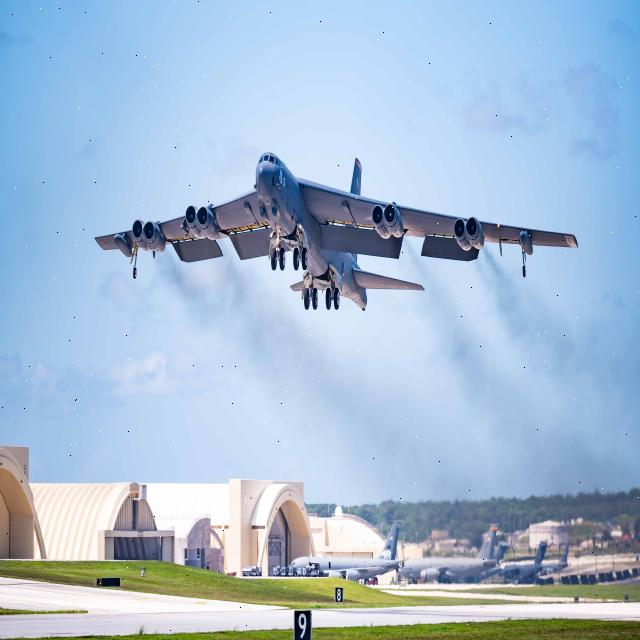B52: (83, 112, 588, 334)
